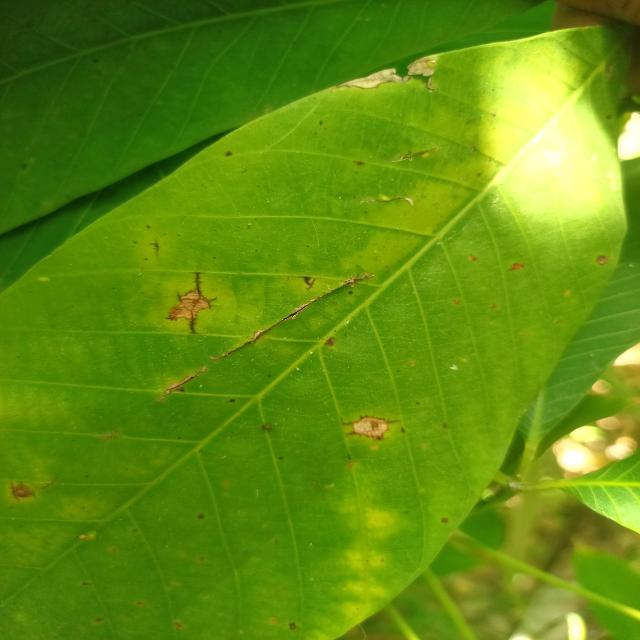Corynespora: (165, 271, 219, 334), (297, 276, 316, 290)
Leaf-Blight: (337, 68, 402, 90), (406, 54, 437, 77), (353, 418, 389, 435)
